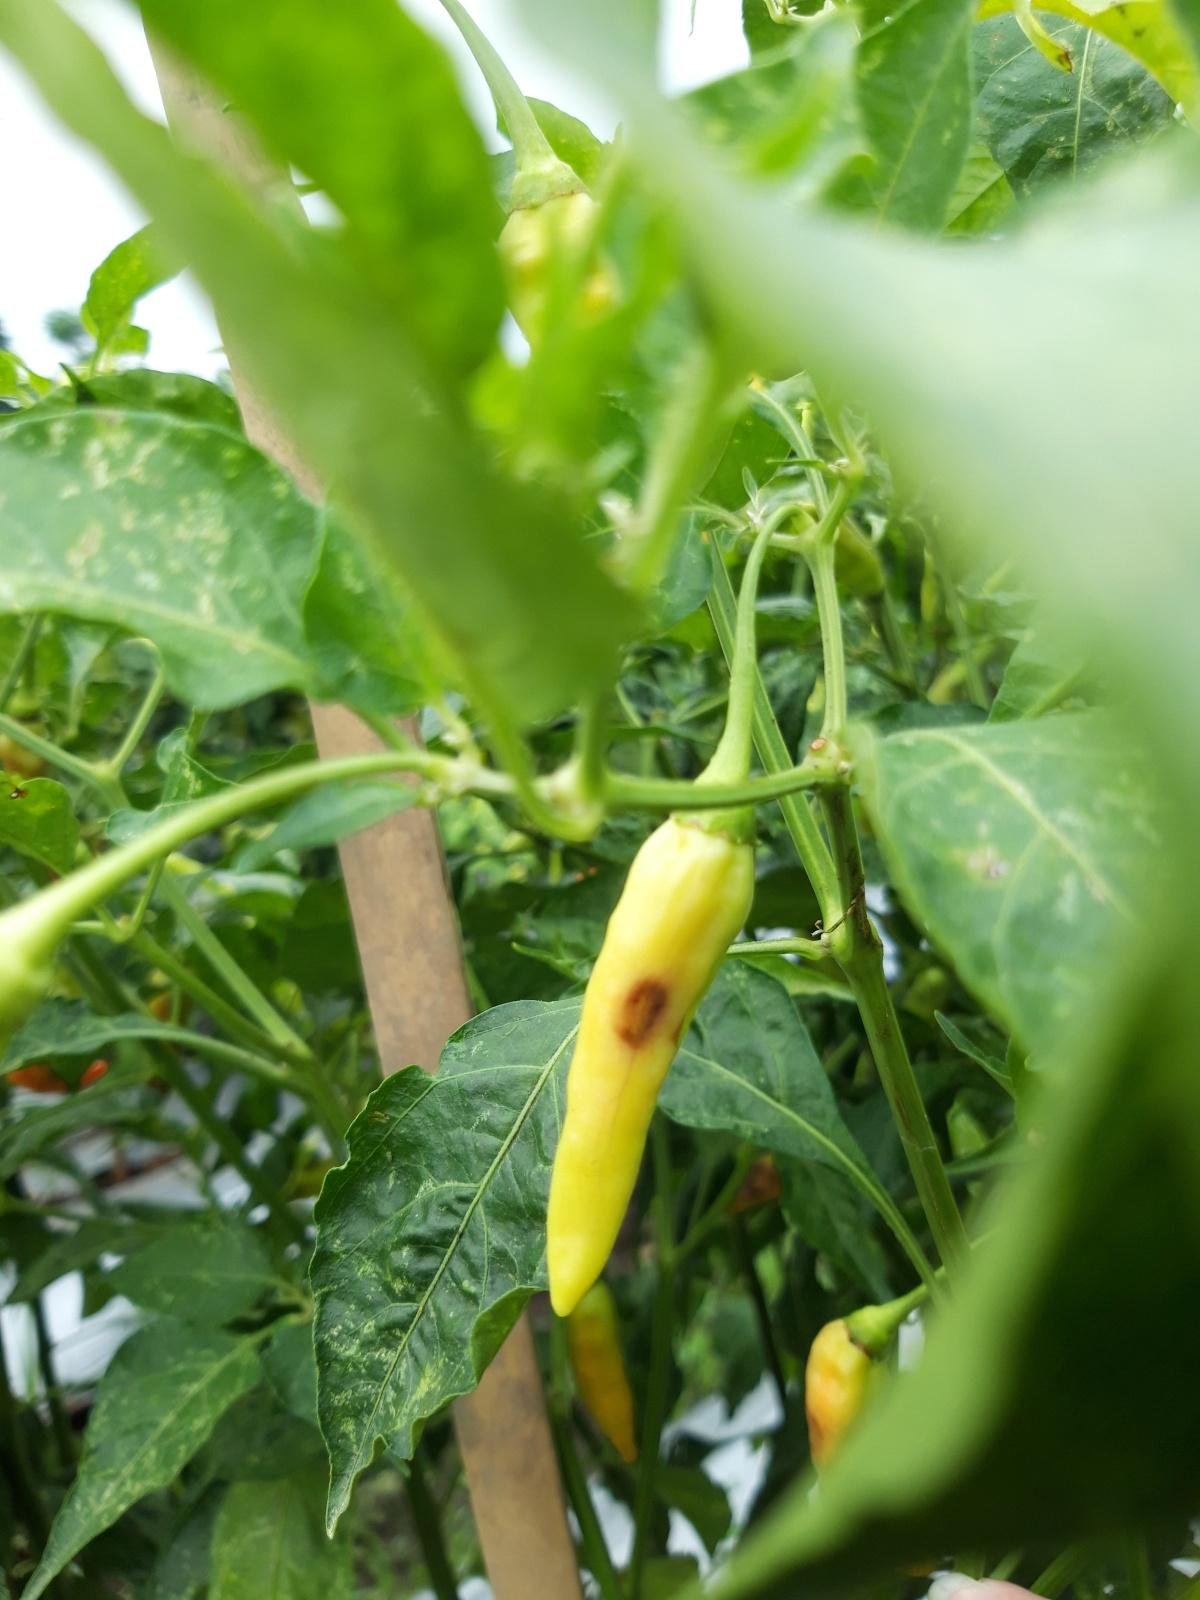lalat_buah: (548, 808, 755, 1318)
